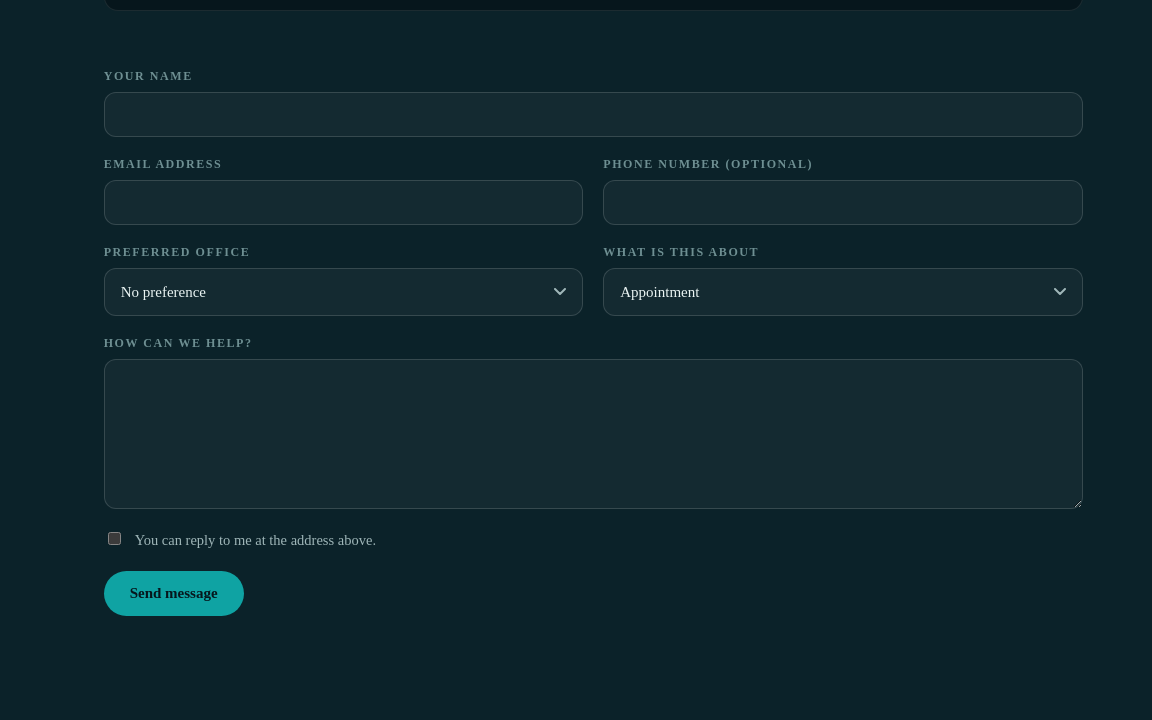
Test: ContactForm › reports every required field on an empty submit
(page scrolled)
Step 1. Click the button "Send message" → (174, 594), box [104,572,244,616]
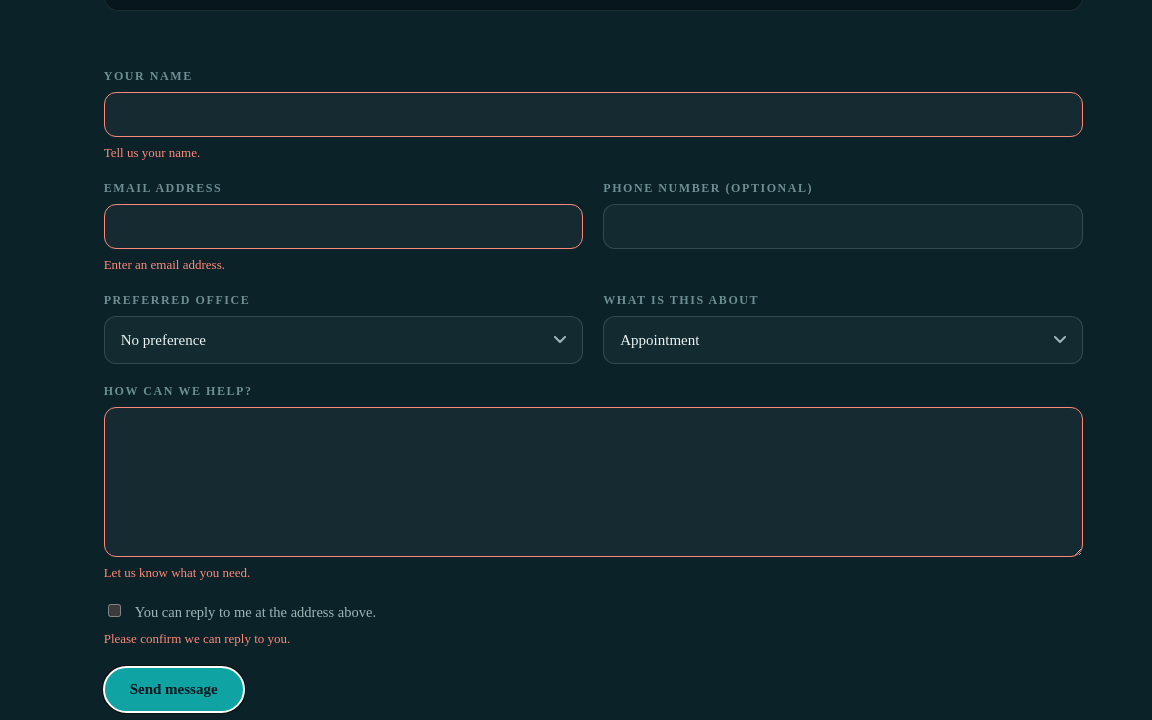
Now the text "Tell us your name." is shown, box [104,145,200,160]
Now the text "Enter an email address." is shown, box [104,257,225,272]
Now the text "Let us know what you need." is shown, box [104,565,250,580]
